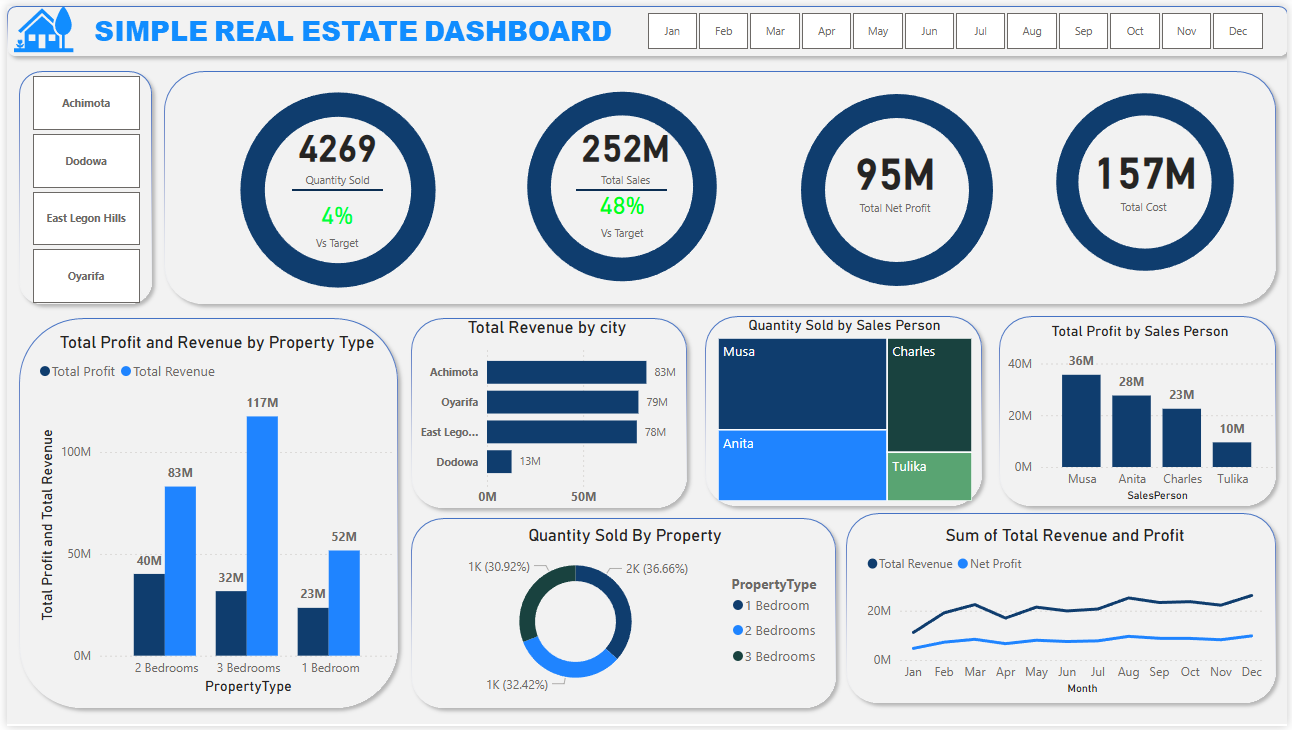

Layout of this report page (visuals, bound fields, positions):
{"tool":"powerbi","page":{"name":"Page 1","canvas":[1280,720],"ordinal":0},"visuals":[{"type":"clusteredColumnChart","title":"Total Profit by Sales Person","fields":{"Category":["output.SalesPerson"],"Y":["output.total net profit"]},"box":[996,317,275,183],"z":0},{"type":"treemap","title":"Quantity Sold by Sales Person","fields":{"Values":["output.Qty"],"Group":["output.SalesPerson"]},"box":[706,311,264,189],"z":1000},{"type":"clusteredBarChart","title":"Total Revenue by city","fields":{"Category":["output.City"],"Y":["output.total selling price"]},"box":[394,311,293,198],"z":2000},{"type":"donutChart","title":"Quantity Sold By Property","fields":{"Category":["output.PropertyType"],"Y":["output.Qty"]},"box":[407,519,423,174],"z":3000},{"type":"clusteredColumnChart","title":"Total Profit and Revenue by Property Type","fields":{"Category":["output.PropertyType"],"Y":["output.total net profit","Measures (2).total selling"]},"box":[27.2,325.8,366.7,366.7],"z":4000},{"type":"slicer","fields":{"Values":["Calendar.Month"]},"box":[615,0,665,50],"z":5000},{"type":"donutChart","fields":{"Y":["Measures (2).total housses sold","Measures (2).Qty to sold"]},"box":[99,57,464,254],"z":6000},{"type":"donutChart","fields":{"Y":["Measures (2).Targeted Qty"]},"box":[996,60,284,232],"z":7000},{"type":"donutChart","fields":{"Y":["Measures (2).total selling","Measures (2).Target Sales to sales"]},"box":[458,57,314,247],"z":8000},{"type":"donutChart","fields":{"Y":["Measures (2).total housses sold"]},"box":[738,59,304,250],"z":9000},{"type":"card","fields":{"Values":["Measures (2).total housses sold"]},"box":[239,76,183,140],"z":10000},{"type":"card","fields":{"Values":["Measures (2).% Qty Sold"]},"box":[257,171,146,90],"z":11000},{"type":"shape","box":[285,121,91,126],"z":12000},{"type":"card","fields":{"Values":["Measures (2).total selling"]},"box":[550,103,137,86],"z":13000},{"type":"shape","box":[569,121,91,126],"z":14000},{"type":"card","fields":{"Values":["Measures (2).% of Sales"]},"box":[489,121,252,171],"z":15000},{"type":"card","fields":{"Values":["Measures (2).total nt profit"]},"box":[738,63,300,216],"z":16000},{"type":"card","fields":{"Values":["Measures (2).total cost price"]},"box":[1005,79,266,183],"z":17000},{"type":"lineChart","title":"Sum of Total Revenue and Profit","fields":{"Category":["Calendar.Month"],"Y":["output.total selling price","output.total net profit"]},"box":[855,519,407,174],"z":17001},{"type":"slicer","fields":{"Values":["output.City"]},"box":[0,63,157,241],"z":17002}]}

Visuals, with their boxes in screenshot pixels (x1, y1, x2, y2), scaled from the page's 1280x720 canvas onto the 1292x730 screenshot:
"Total Profit by Sales Person" clusteredColumnChart: left=1005, top=321, right=1283, bottom=507
"Quantity Sold by Sales Person" treemap: left=713, top=315, right=979, bottom=507
"Total Revenue by city" clusteredBarChart: left=398, top=315, right=693, bottom=516
"Quantity Sold By Property" donutChart: left=411, top=526, right=838, bottom=703
"Total Profit and Revenue by Property Type" clusteredColumnChart: left=27, top=330, right=398, bottom=702
slicer - Calendar.Month: left=621, top=0, right=1291, bottom=51
donutChart - Measures (2).total housses sold x Measures (2).Qty to sold: left=100, top=58, right=568, bottom=315
donutChart - Measures (2).Targeted Qty: left=1005, top=61, right=1291, bottom=296
donutChart - Measures (2).total selling x Measures (2).Target Sales to sales: left=462, top=58, right=779, bottom=308
donutChart - Measures (2).total housses sold: left=745, top=60, right=1052, bottom=313
card - Measures (2).total housses sold: left=241, top=77, right=426, bottom=219
card - Measures (2).% Qty Sold: left=259, top=173, right=407, bottom=265
shape: left=288, top=123, right=380, bottom=250
card - Measures (2).total selling: left=555, top=104, right=693, bottom=192
shape: left=574, top=123, right=666, bottom=250
card - Measures (2).% of Sales: left=494, top=123, right=748, bottom=296
card - Measures (2).total nt profit: left=745, top=64, right=1048, bottom=283
card - Measures (2).total cost price: left=1014, top=80, right=1283, bottom=266
"Sum of Total Revenue and Profit" lineChart: left=863, top=526, right=1274, bottom=703
slicer - output.City: left=0, top=64, right=158, bottom=308
